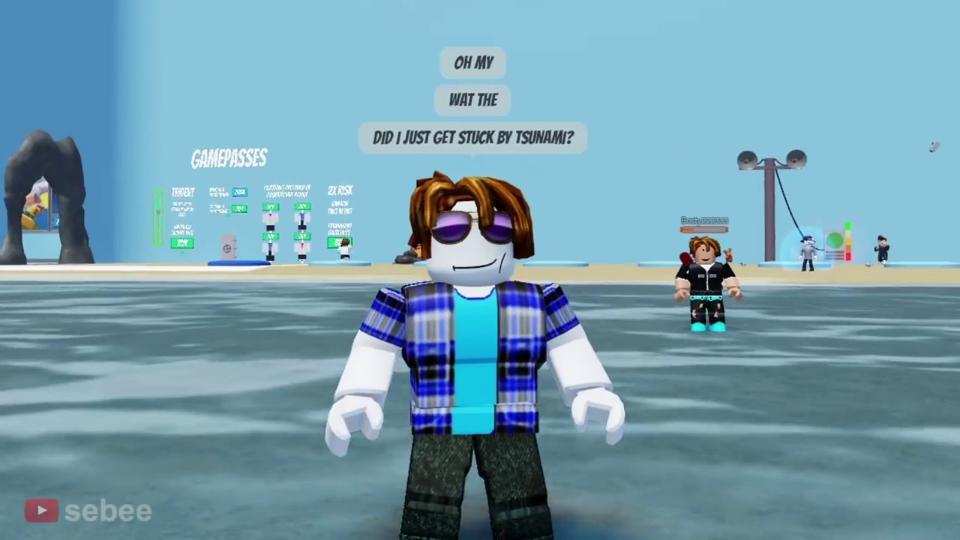Character: (324, 168, 625, 540), (674, 236, 744, 334), (797, 235, 819, 273), (874, 235, 891, 265)
